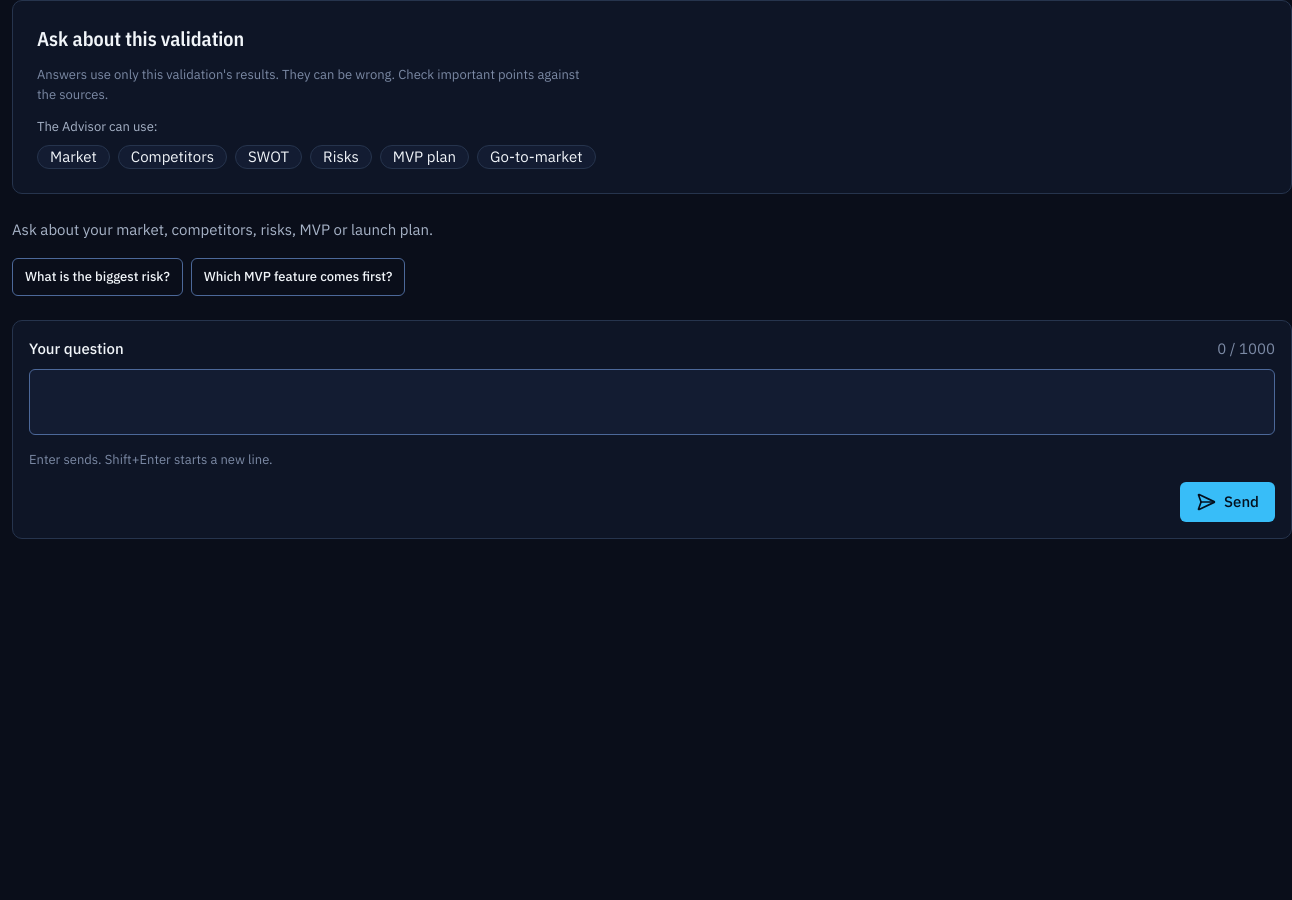
Advisor: errors keep the draft › says the connection was lost and keeps the question
Type "Which risk matters most?" into the text box labelled "Your question" at point(652, 402), box [29,369,1275,435]
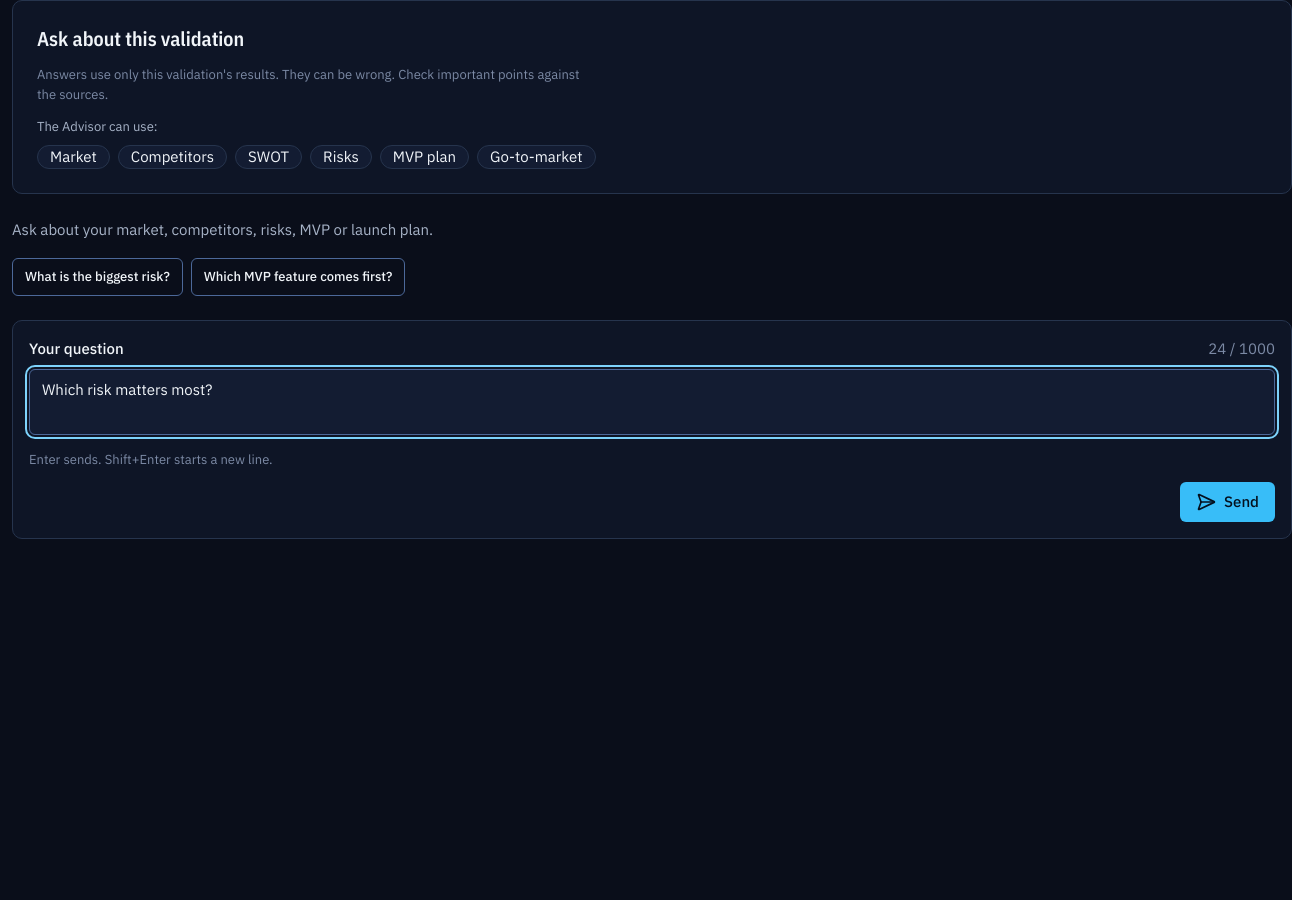
Click the button "Send" at point(1228, 502), box [1180,482,1275,522]
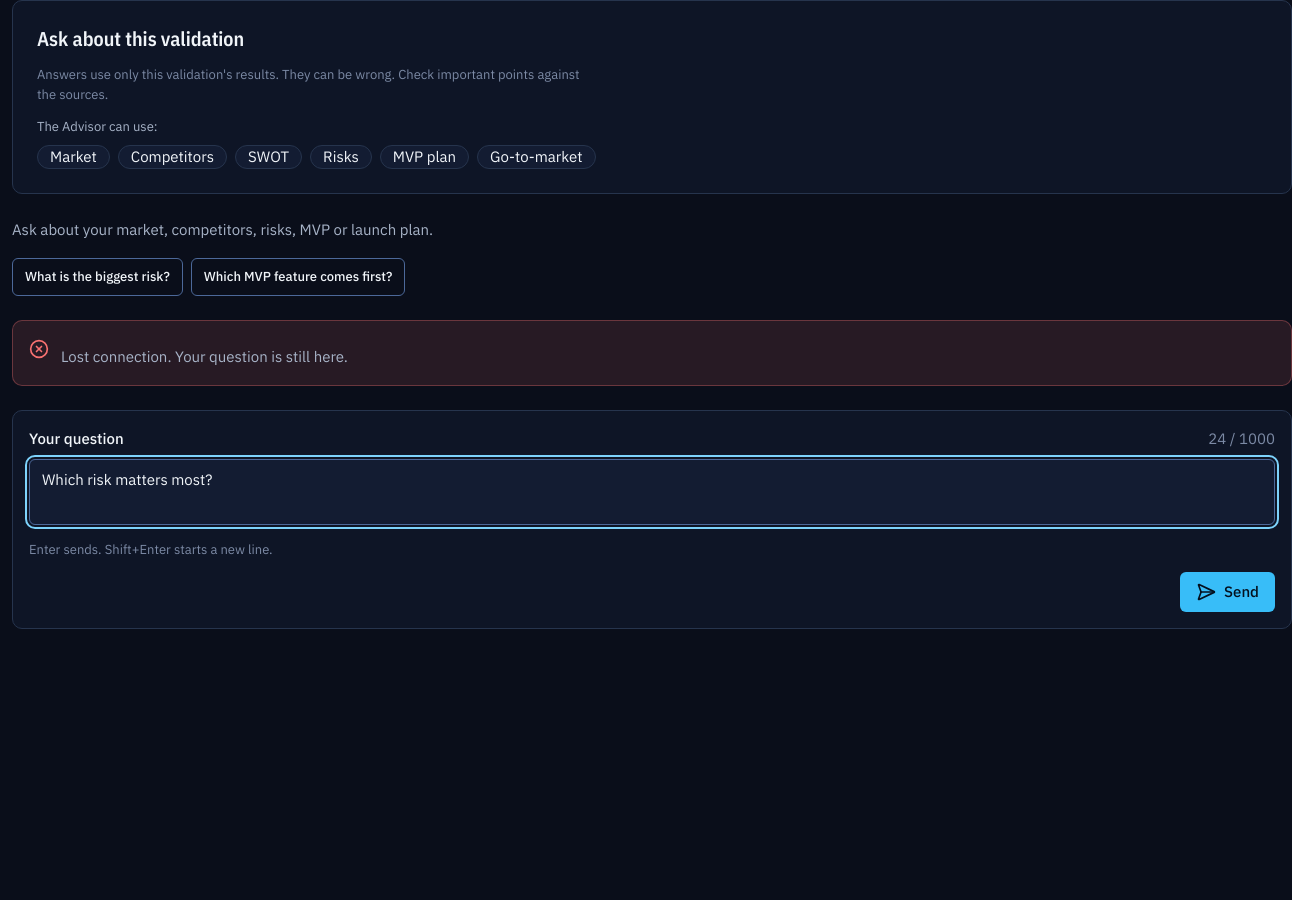
Result: the text "Lost connection. Your question is still here." is shown at [61,347,348,366]
